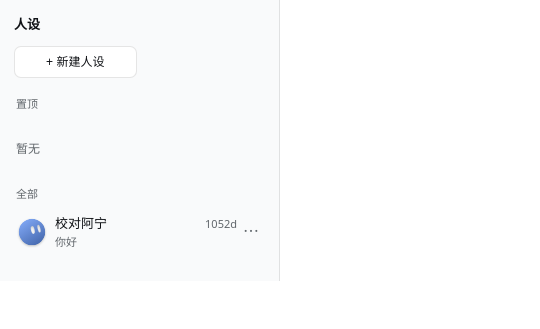
Scenario: Roster › shows the hover preview after 500ms and closes it on dragstart
Hover over the element with test id "roster-row-xiaodui-aning" at (32, 232), box [8,208,271,256]
Wait 500 ms
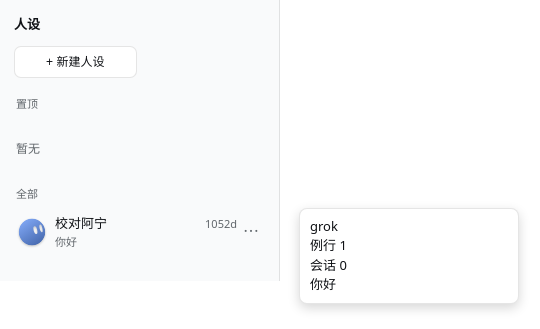
Expected: the element with test id "roster-hover-xiaodui-aning" shows "grok", [310,216,338,234]
